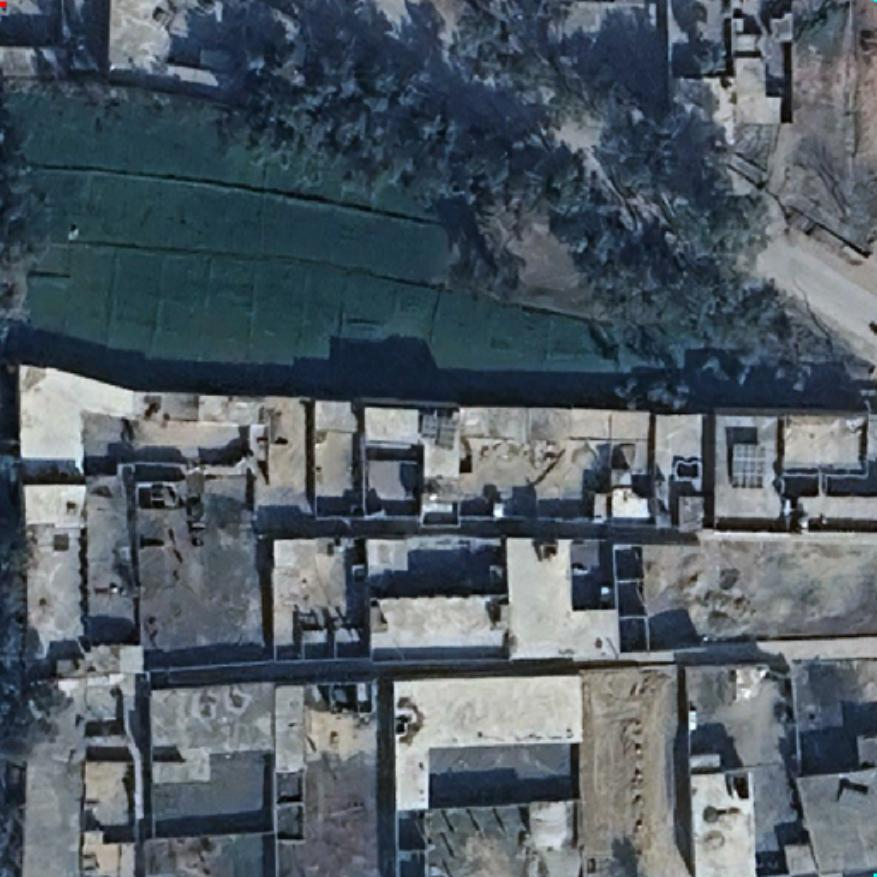Solarpanel: (728, 440, 768, 490), (420, 410, 458, 453)
